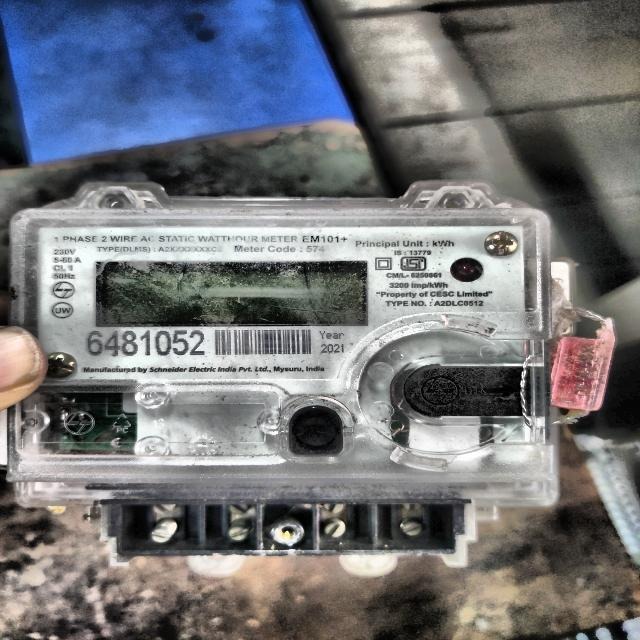Digital: (13, 176, 593, 565)
Reading: (96, 266, 362, 320)
Serial No.: (85, 328, 206, 360)
